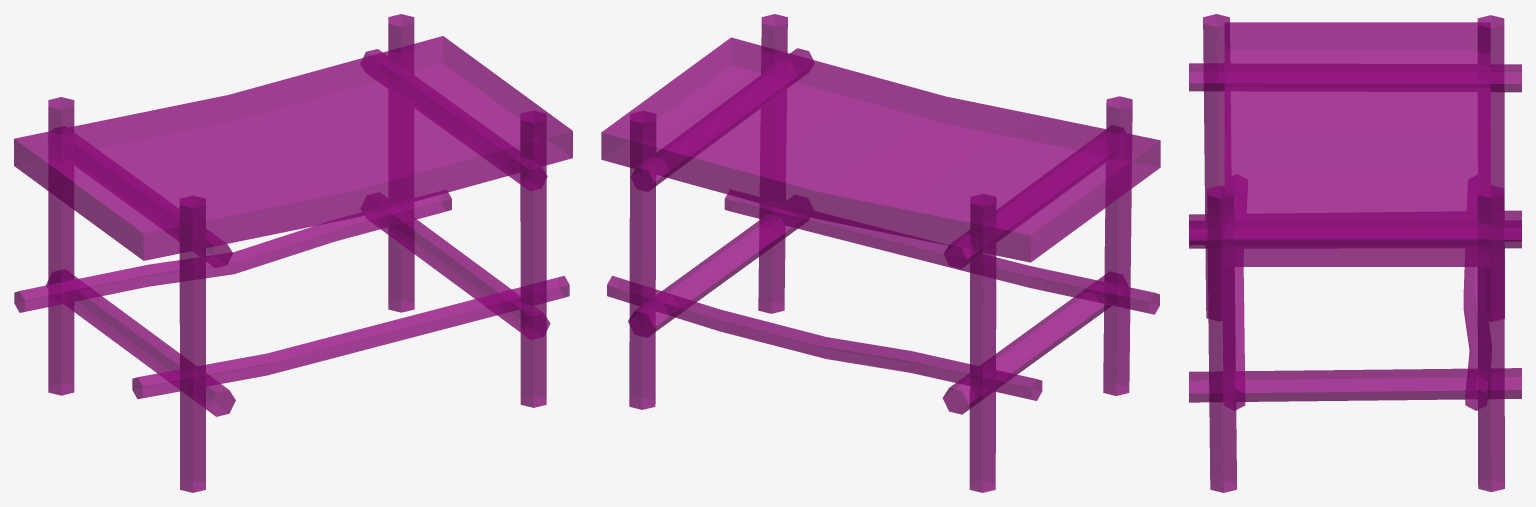
The model's file is SM_Prop_Scaffolding_02_Collision.fbx.
3 renders of one model, left to right at view 1: azimuth 30°, elevation 25°; view 2: azimuth 150°, elevation 25°; view 3: azimuth 270°, elevation 25°, orthographic. The views are drawn at different scales.
Parts seen in each view (by area): view 1: SM_Prop_Scaffolding_02_Collision; view 2: SM_Prop_Scaffolding_02_Collision; view 3: SM_Prop_Scaffolding_02_Collision.
Boxes of the visible parts, x1=… form: SM_Prop_Scaffolding_02_Collision: x1=14, y1=14, x2=572, y2=492; SM_Prop_Scaffolding_02_Collision: x1=601, y1=14, x2=1160, y2=492; SM_Prop_Scaffolding_02_Collision: x1=1189, y1=14, x2=1521, y2=492.
Bounding box in the file's own units: 432 × 275 × 283.
